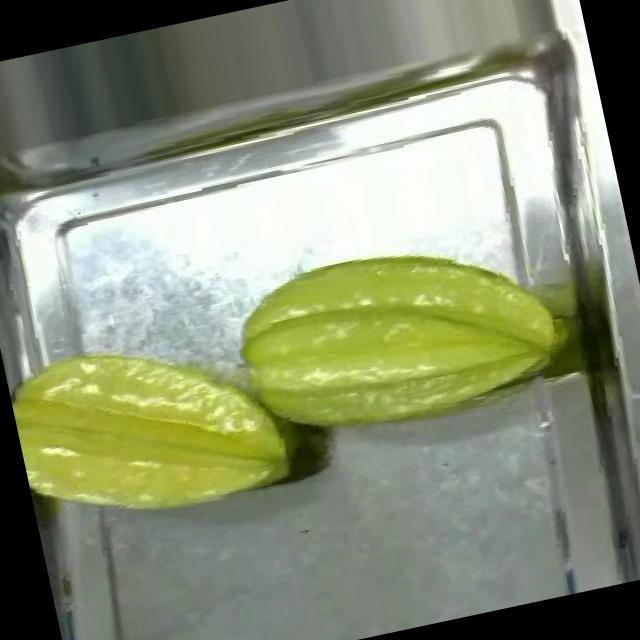fruit: (215, 208, 586, 471), (4, 304, 310, 556)
